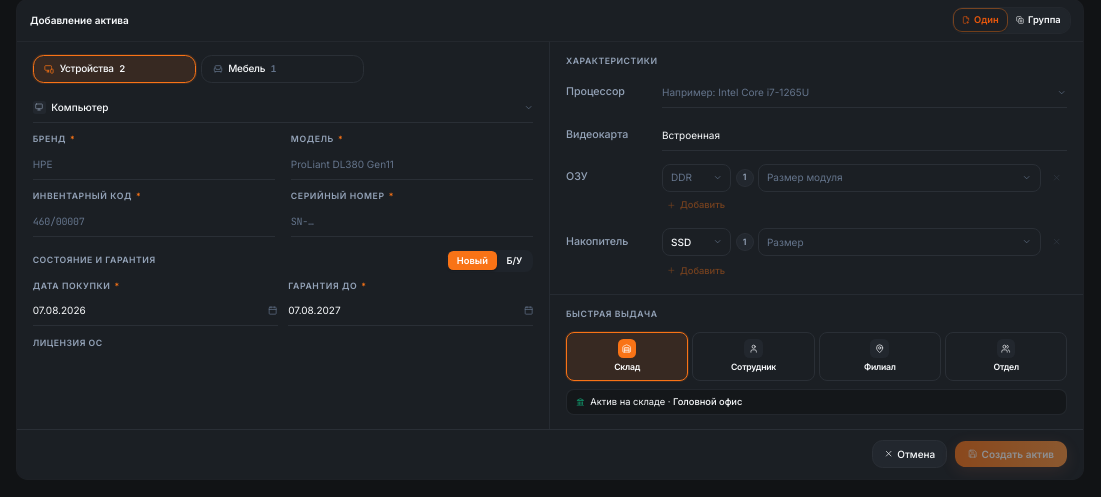
it: AssetCreateForm — default category auto-selection on mount › switching to furniture (Стол) shows Тип field
This screenshot has width=1101, height=497.
Expected: the text "Лицензия ОС" is shown, [33,338,103,348]
Click the tab "Мебель 1" at (283, 69), box [201,55,364,83]
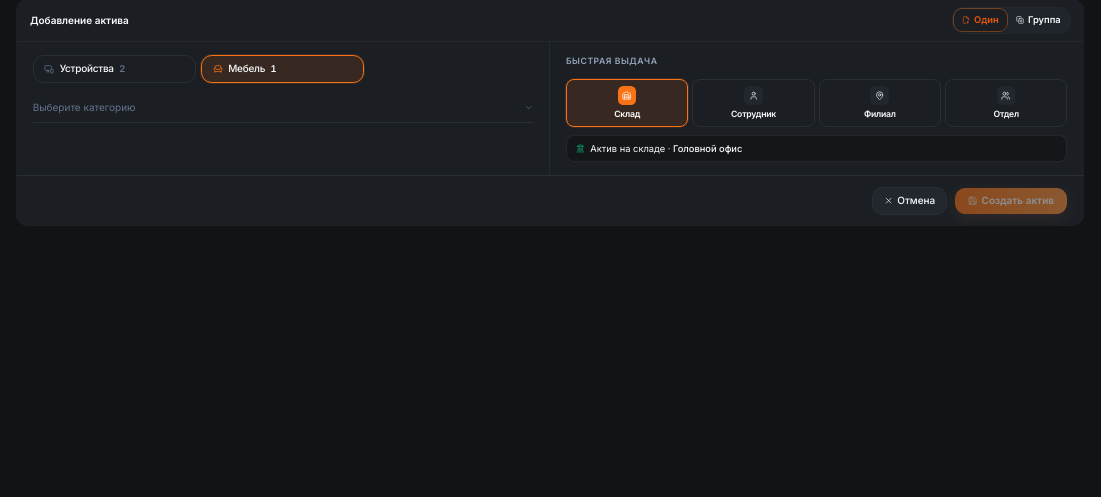
Click the dropdown named "Категория" at (84, 107), box [33,93,533,123]
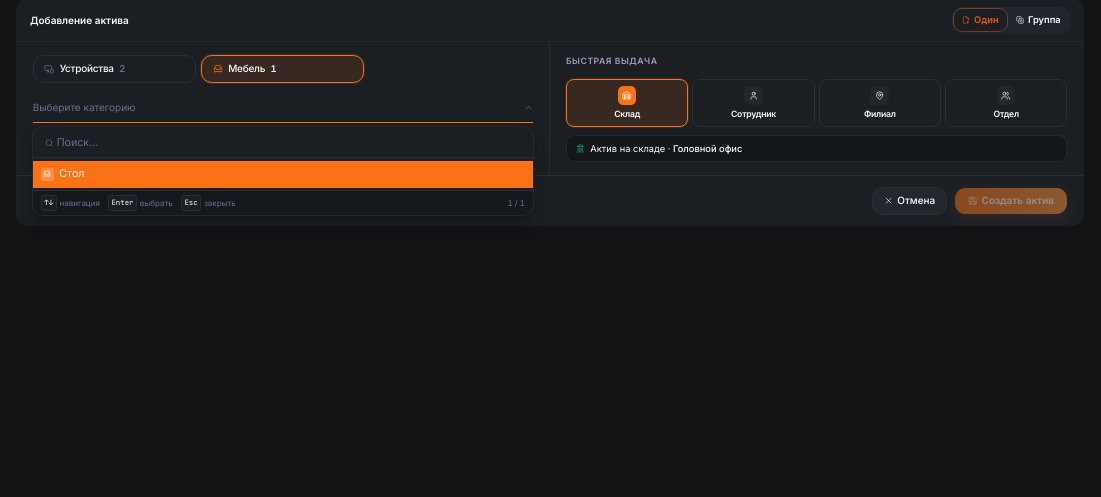
Click the option "Стол" at (47, 174), box [33,161,533,188]
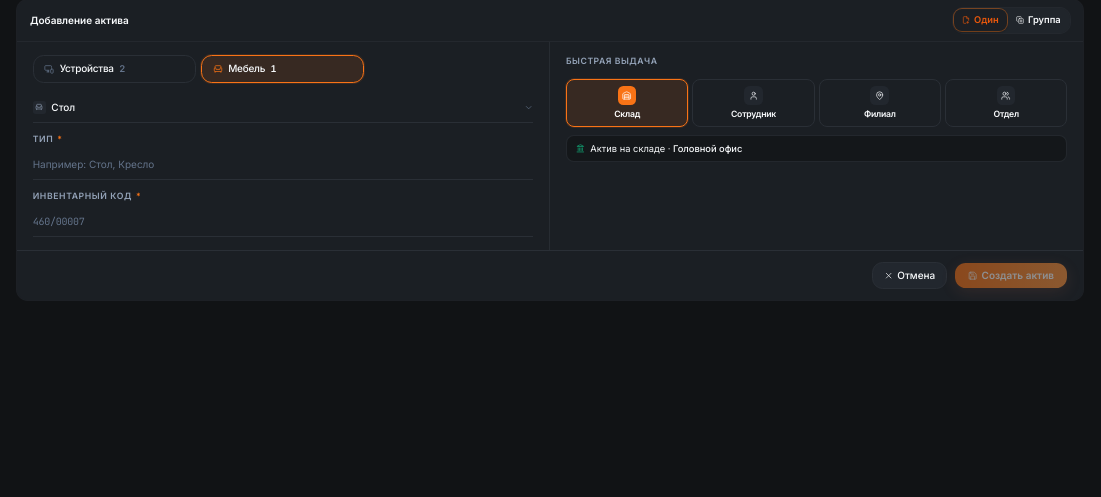
Expected: the text "Лицензия ОС" is not shown
Now the field with placeholder "Например: Стол, Кресло" is shown, box [33,150,533,180]
